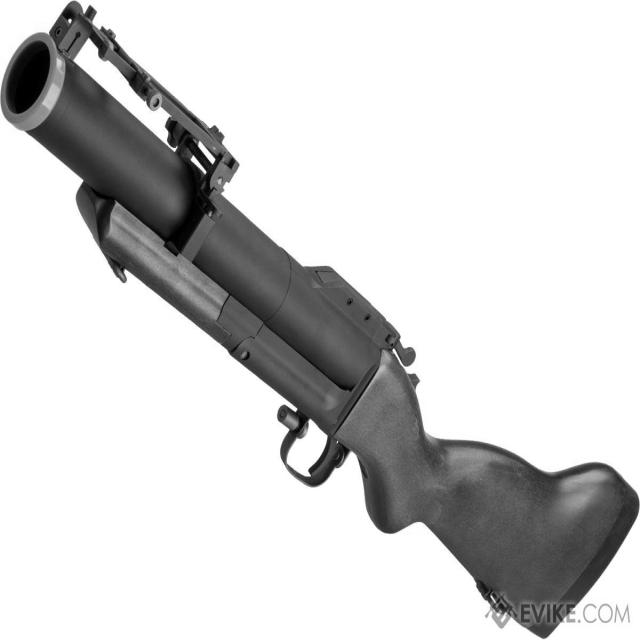Lancher: (0, 0, 635, 622)
